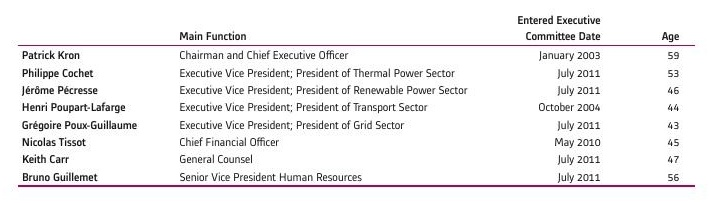table: (0, 0, 709, 203)
